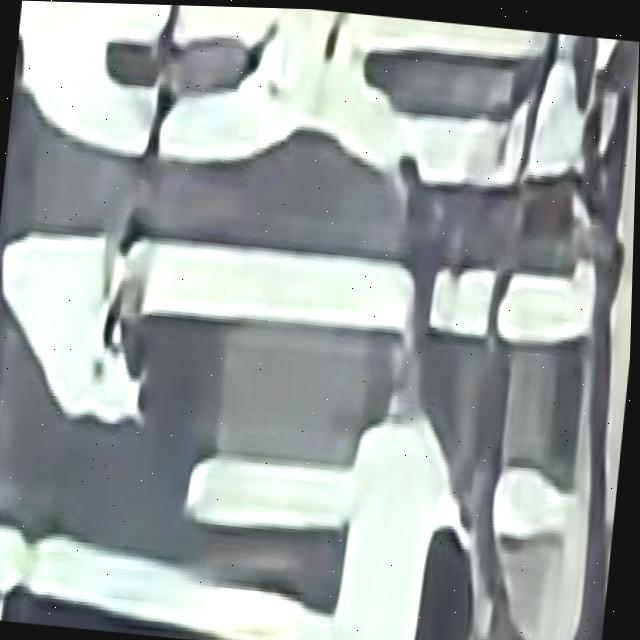character: (0, 189, 608, 476), (0, 356, 590, 640), (3, 0, 632, 229)
